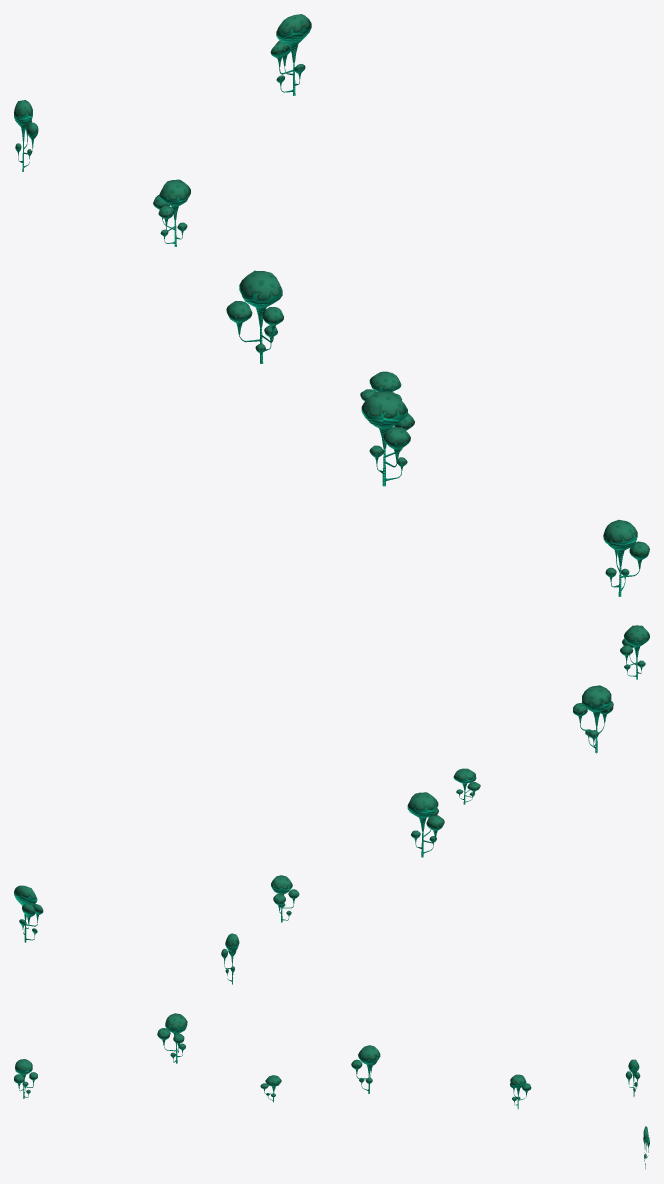
Rendered from treeI.fbx.
3 renders of one model, top to bottom at view 1: azimuth 30°, elevation 25°; view 2: azimuth 150°, elevation 25°; view 3: azimuth 270°, elevation 25°, orthographic. The views are drawn at different scales.
Parts seen in each view (by area): view 1: treeI; view 2: treeI; view 3: treeI.
Part boxes in pixels (x1,y1,x2,y2): treeI: (14,14,649,596); treeI: (14,625,649,984); treeI: (14,1013,649,1169).
Bounding box in the file's own units: 1234 × 364 × 3298.
